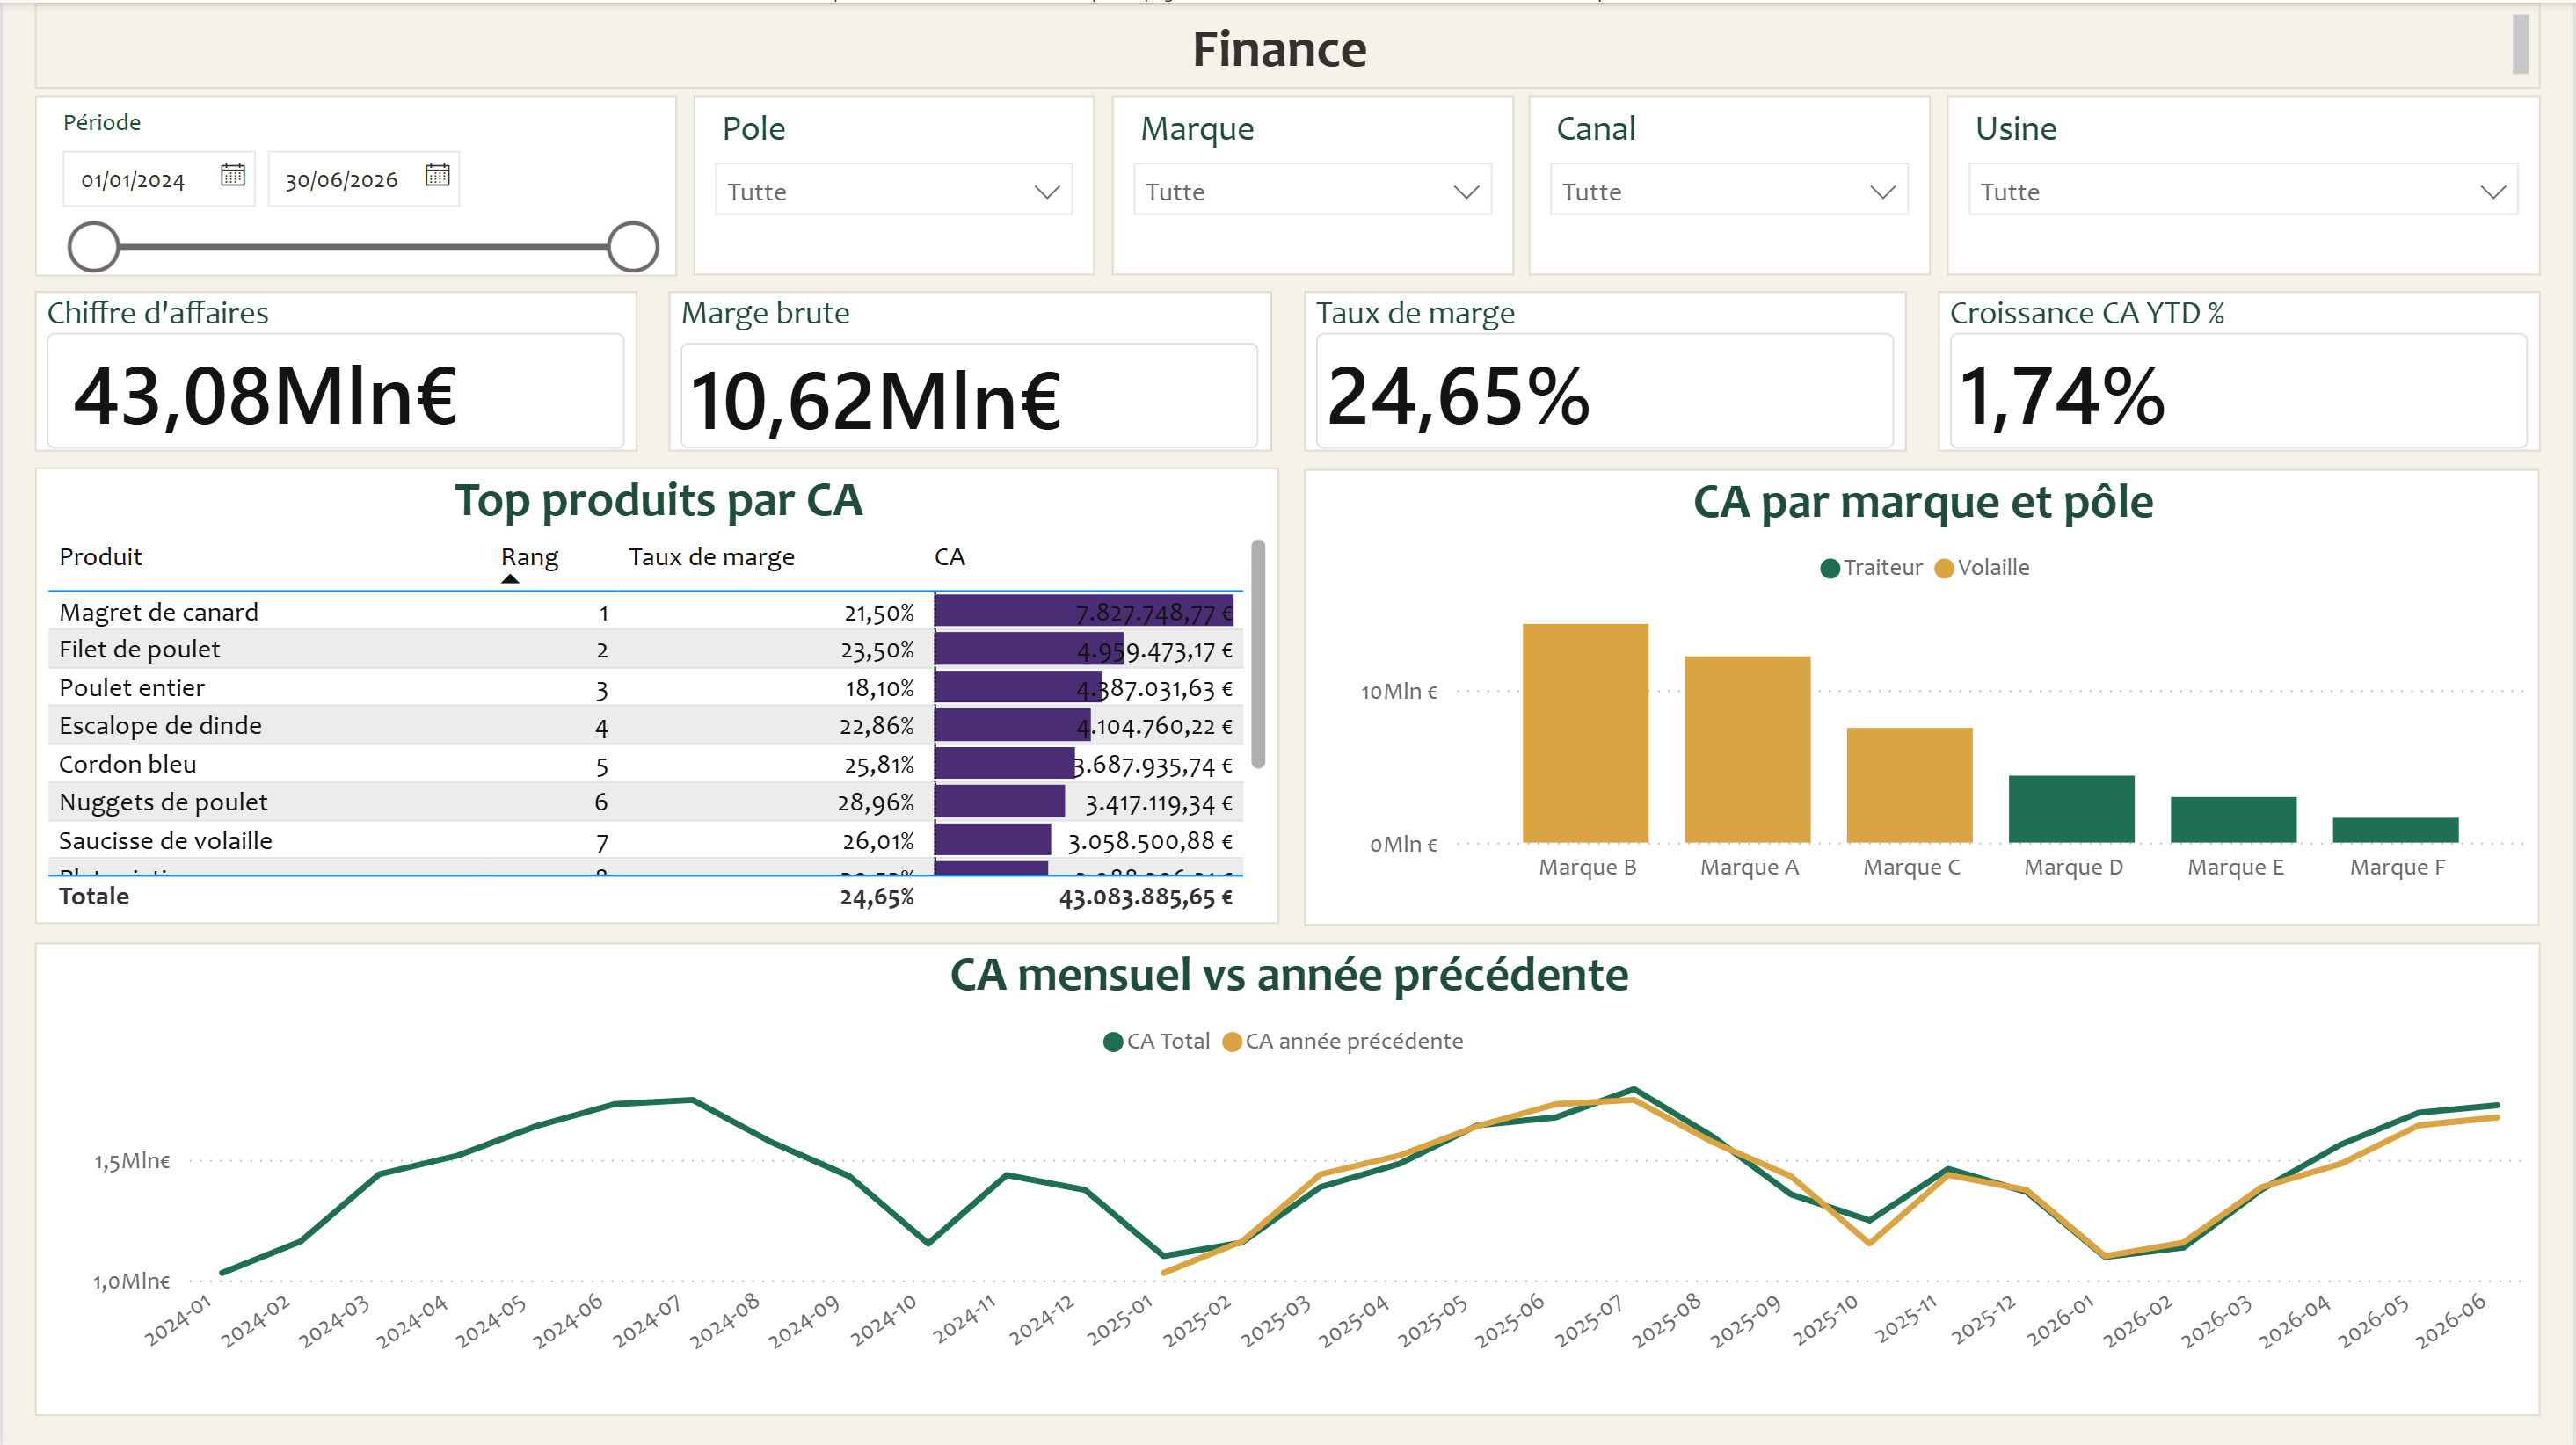

The dashboard page shown, as its layout file describes it:
{"tool":"powerbi","page":{"name":"Finance","canvas":[1280,720],"ordinal":0},"visuals":[{"type":"textbox","box":[16,0,1248,43],"z":0},{"type":"slicer","fields":{"Values":["dim_date.Date"]},"box":[16,46.1,320,90.4],"z":1000},{"type":"slicer","fields":{"Values":["dim_produit.pole"]},"box":[344,46,200,90],"z":2000},{"type":"slicer","fields":{"Values":["dim_produit.marque"]},"box":[552,46,200.4,90],"z":3000},{"type":"slicer","fields":{"Values":["fact_ventes.canal"]},"box":[760,46,200.4,90],"z":4000},{"type":"slicer","fields":{"Values":["dim_usine.nom_usine"]},"box":[968,46,296,90],"z":5000},{"type":"cardVisual","title":"Chiffre d''affaires","fields":{"Data":["_Mesures.CA Total"]},"box":[16,143.6,300,80],"z":6000},{"type":"cardVisual","title":"Marge brute","fields":{"Data":["_Mesures.Marge"]},"box":[332,144,300.6,80],"z":7000},{"type":"cardVisual","title":"Taux de marge","fields":{"Data":["_Mesures.Taux de Marge %"]},"box":[648,144,300,80],"z":8000},{"type":"cardVisual","title":"Croissance CA YTD %","fields":{"Data":["_Mesures.Croissance CA YTD %"]},"box":[964,144,300,80],"z":9000},{"type":"lineChart","title":"CA mensuel vs année précédente","fields":{"Category":["dim_date.Année-Mois"],"Y":["_Mesures.CA Total","_Mesures.CA N-1"]},"box":[16,468,1248,236],"z":10000},{"type":"columnChart","title":"CA par marque et pôle","fields":{"Category":["dim_produit.marque"],"Y":["_Mesures.CA Total"],"Series":["dim_produit.pole"]},"box":[648.1,232.3,615.3,227.8],"z":11000},{"type":"tableEx","title":"Top produits par CA","fields":{"Values":["dim_produit.libelle","_Mesures.Rang Produit (CA)","_Mesures.Taux de Marge %","_Mesures.CA Total"]},"box":[16,231.4,619.7,227.8],"z":12000}]}

Visuals, with their boxes in screenshot pixels (x1, y1, x2, y2), scaled from the page's 1280x720 canvas onto the 2576x1445 screenshot:
textbox: BBox(33, 0, 2543, 86)
slicer - dim_date.Date: BBox(33, 92, 676, 274)
slicer - dim_produit.pole: BBox(692, 92, 1095, 273)
slicer - dim_produit.marque: BBox(1111, 92, 1514, 273)
slicer - fact_ventes.canal: BBox(1530, 92, 1932, 273)
slicer - dim_usine.nom_usine: BBox(1948, 92, 2543, 273)
"Chiffre d''affaires" cardVisual: BBox(33, 288, 636, 449)
"Marge brute" cardVisual: BBox(668, 289, 1273, 449)
"Taux de marge" cardVisual: BBox(1304, 289, 1908, 449)
"Croissance CA YTD %" cardVisual: BBox(1940, 289, 2543, 449)
"CA mensuel vs année précédente" lineChart: BBox(33, 940, 2543, 1412)
"CA par marque et pôle" columnChart: BBox(1305, 466, 2543, 924)
"Top produits par CA" tableEx: BBox(33, 464, 1279, 922)
